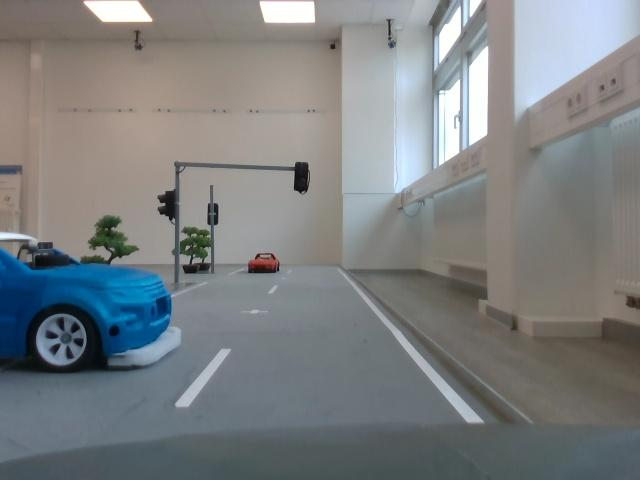car: (2, 232, 189, 383), (251, 249, 282, 279)
potted plant: (77, 209, 142, 265), (180, 226, 212, 278)
traffic light: (157, 188, 183, 225), (204, 202, 225, 232), (296, 160, 311, 198)
